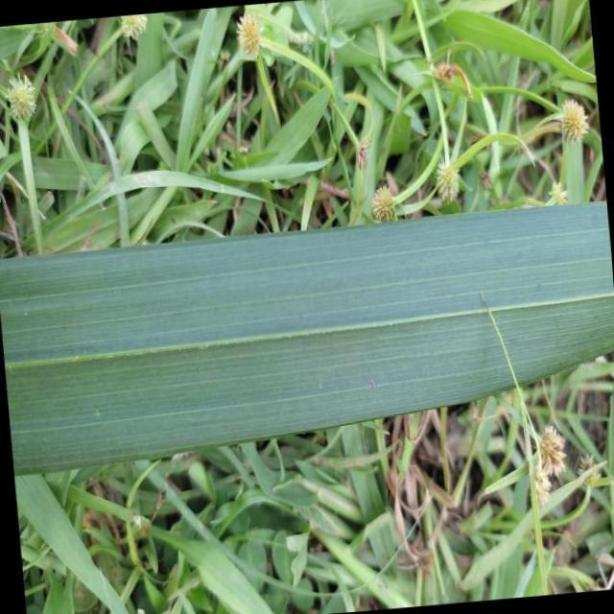Healthy: (0, 198, 614, 480)
